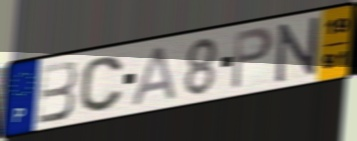8: (182, 36, 222, 98)
A: (129, 43, 179, 108)
B: (36, 59, 79, 127)
C: (78, 55, 125, 115)
N: (275, 14, 321, 86)
P: (229, 25, 276, 93)
